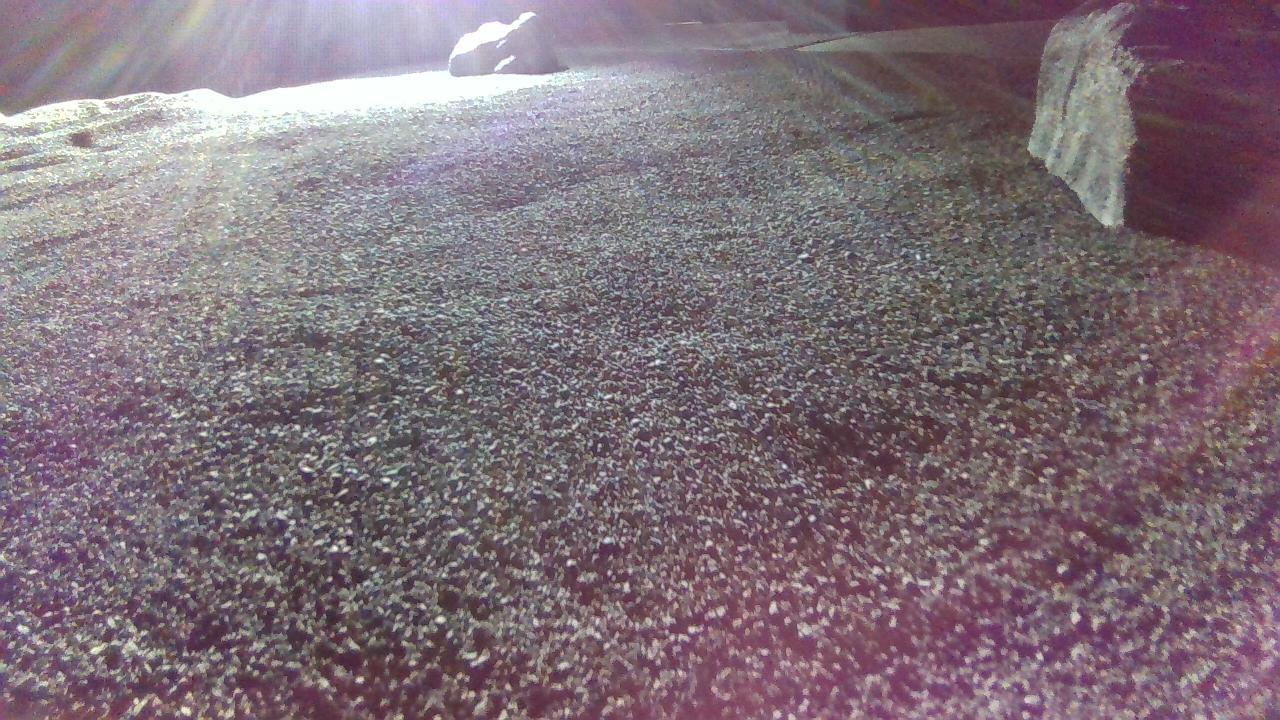rock: (1031, 2, 1258, 235), (448, 10, 567, 74)
